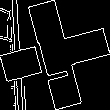L_N: (33, 27, 77, 83)
